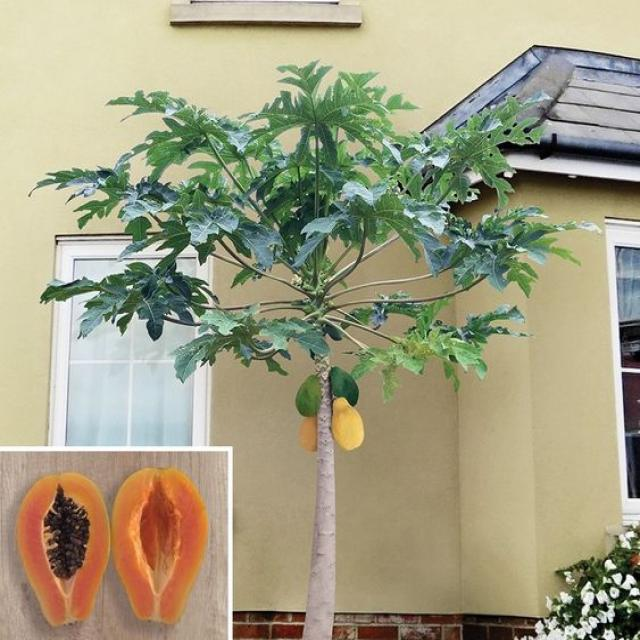Papaya-Tree: (226, 90, 458, 640)
